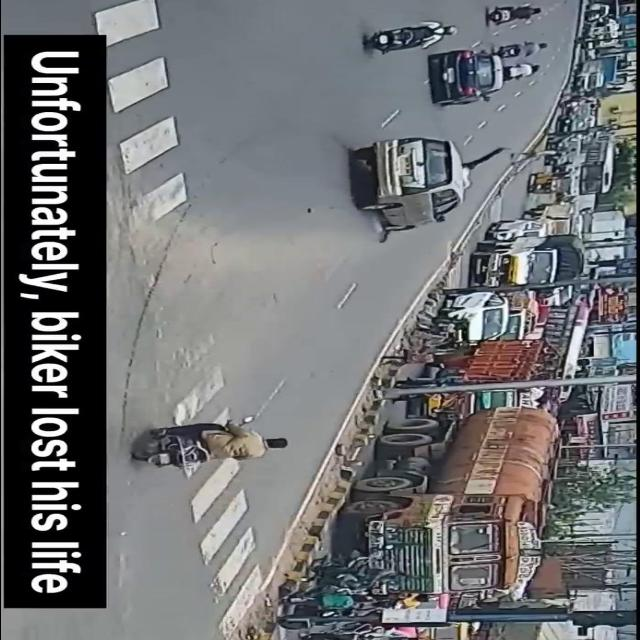accident: (355, 140, 553, 248)
non_accident: (278, 402, 566, 640), (531, 0, 640, 204), (394, 290, 590, 402), (466, 203, 597, 286)
